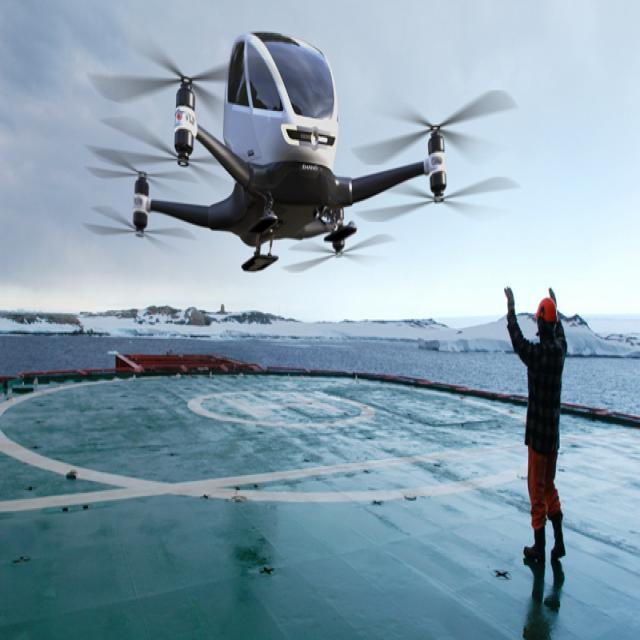drone: (82, 21, 520, 276)
